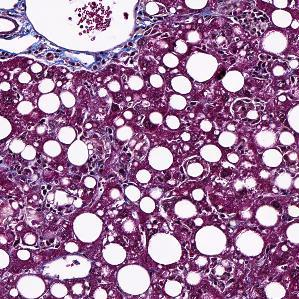fibrosis: (35, 39, 122, 76)
